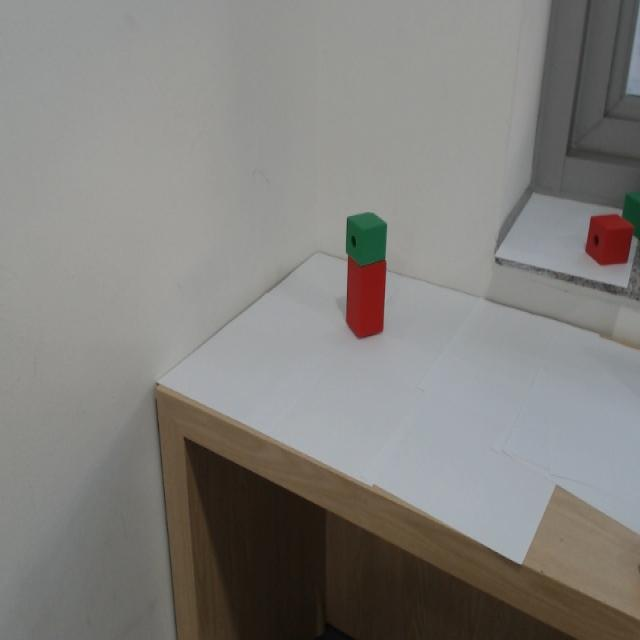cube: (342, 208, 390, 270)
